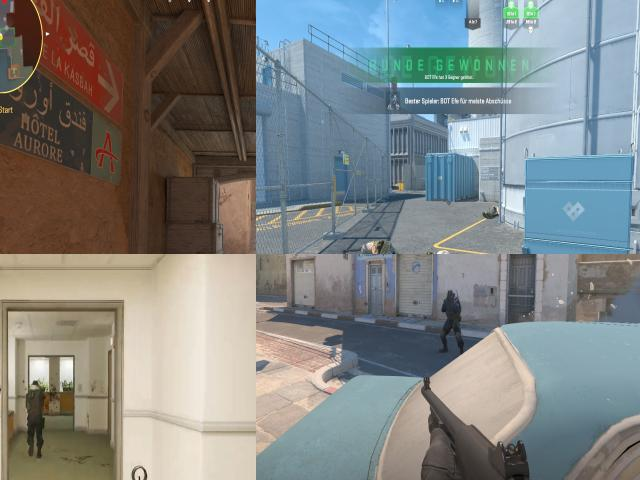CT: (440, 289, 464, 351), (26, 373, 50, 425)
CT-Head: (28, 378, 42, 392), (446, 289, 456, 303)
Dead: (354, 238, 417, 254), (484, 204, 500, 218)
